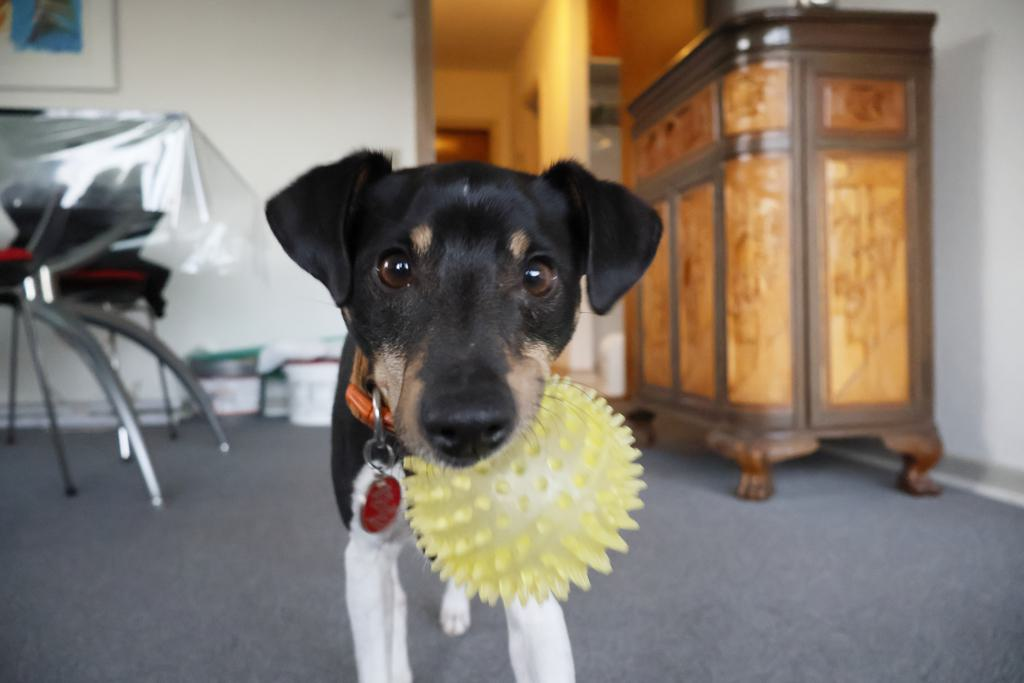Dog: (236, 137, 671, 683)
